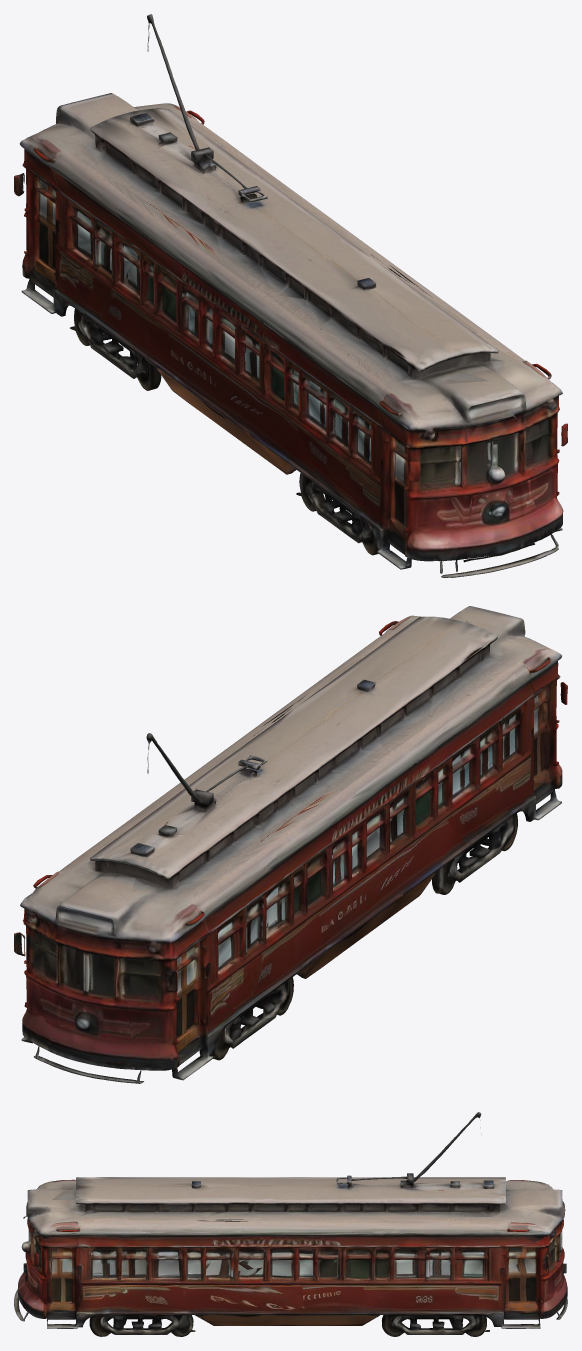
The model's file is redcar-pacific-electric.glb.
The picture shows the model from 3 angles, top to bottom: view 1: azimuth 30°, elevation 25°; view 2: azimuth 150°, elevation 25°; view 3: azimuth 270°, elevation 25°; orthographic projection. The views are drawn at different scales.
Visible parts, largest first — view 1: model; view 2: model; view 3: model.
Part boxes in pixels (left/top/right/bottom): model: left=14, top=14, right=567, bottom=577; model: left=14, top=606, right=567, bottom=1083; model: left=14, top=1112, right=567, bottom=1336.
Bounding box in the file's own units: 2.89 × 5.24 × 13.
Materials: 1 (1 with a texture image).
